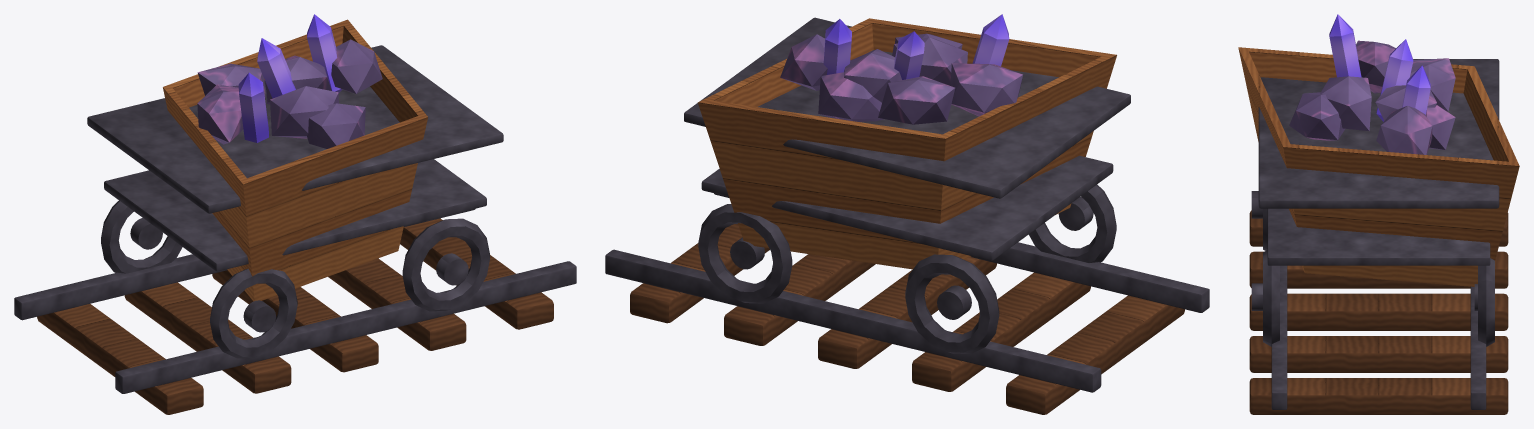
Rendered from GIN_UG_MineCart.fbx.
The picture shows the model from 3 angles, left to right: view 1: azimuth 30°, elevation 25°; view 2: azimuth 150°, elevation 25°; view 3: azimuth 270°, elevation 25°; orthographic projection. The views are drawn at different scales.
Parts seen in each view (by area): view 1: GIN_UG_MineCart; view 2: GIN_UG_MineCart; view 3: GIN_UG_MineCart.
Part boxes in pixels (<box>): GIN_UG_MineCart: <box>14,14,576,414</box>; GIN_UG_MineCart: <box>605,14,1209,414</box>; GIN_UG_MineCart: <box>1238,14,1519,414</box>.
Size of the model in its own units: 2.6 by 1.54 by 1.41.
